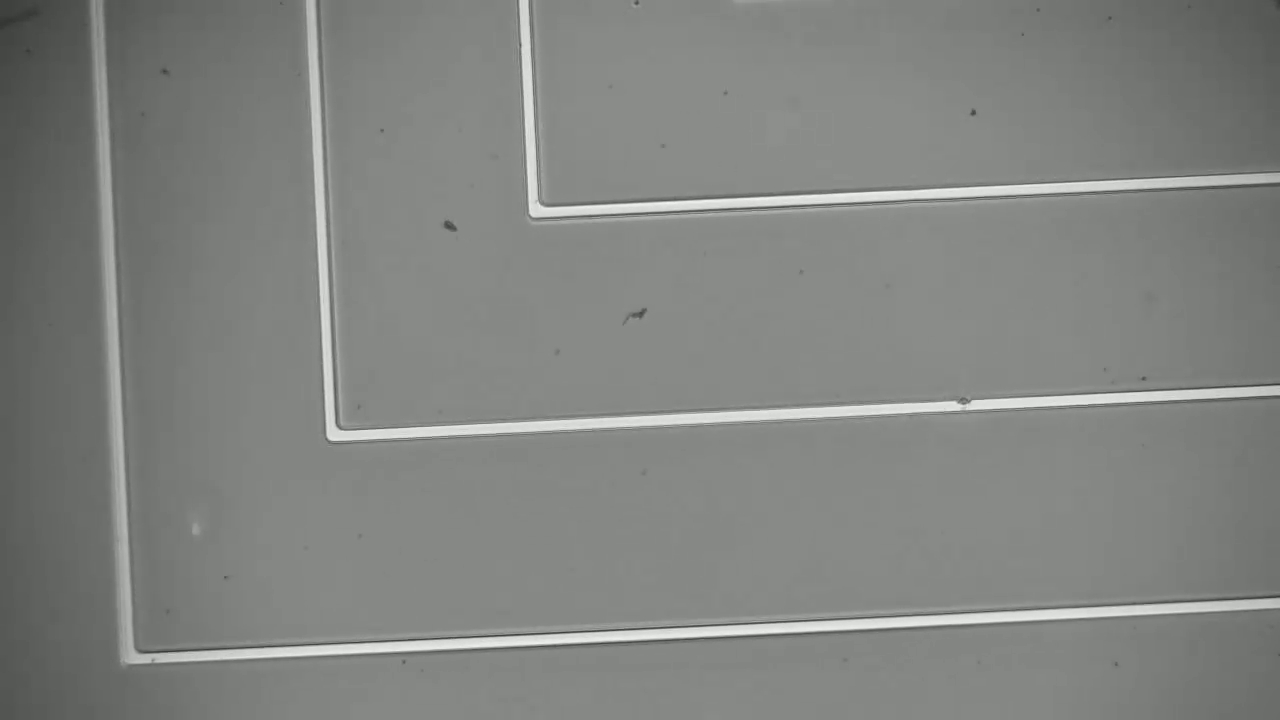stains_enbedded: (952, 390, 980, 420)
